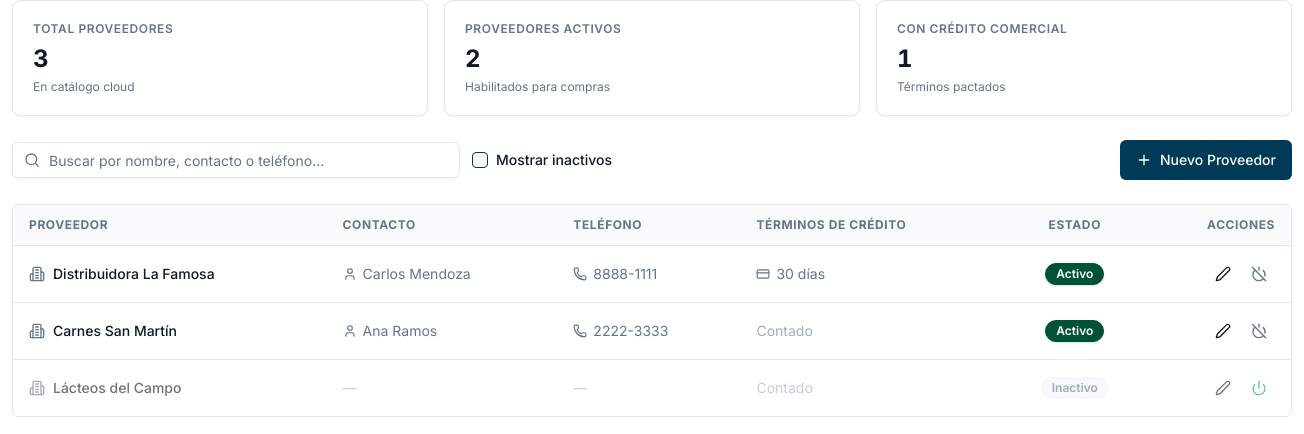
Test: SuppliersTab (SOHO office master data - BXW-001) › filters suppliers by search input
In the field with placeholder "Buscar por nombre, contacto o teléfono...": (236, 160) [12,142,460,178], type "Carnes"
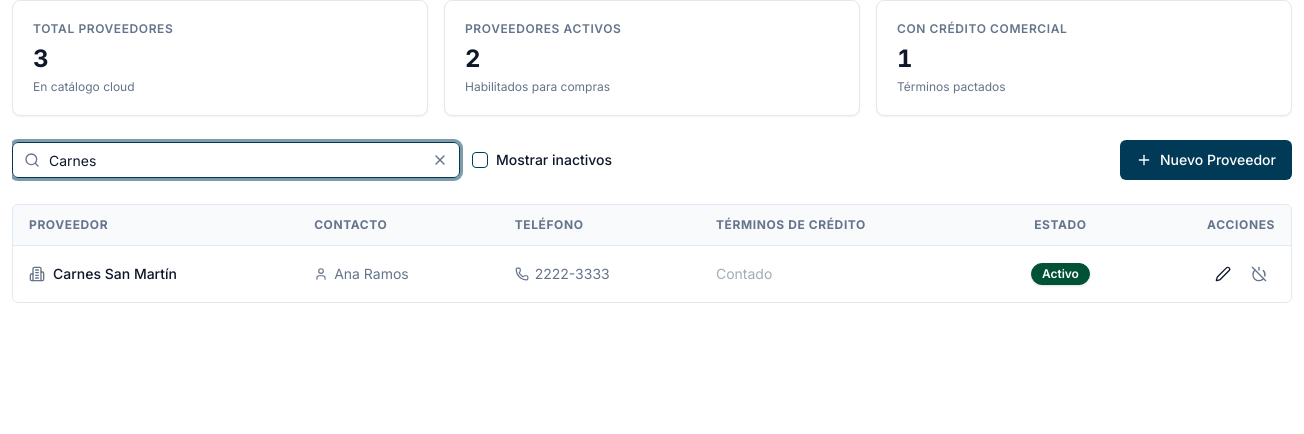
Expected: the text "Carnes San Martín" is shown, [53,264,177,284]
Result: the text "Distribuidora La Famosa" is gone
Result: the text "Lácteos del Campo" is gone
